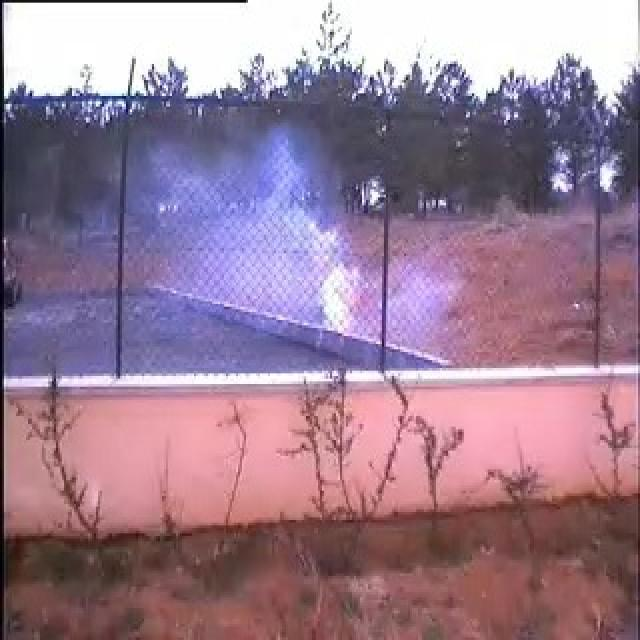smoke: (112, 124, 382, 372)
